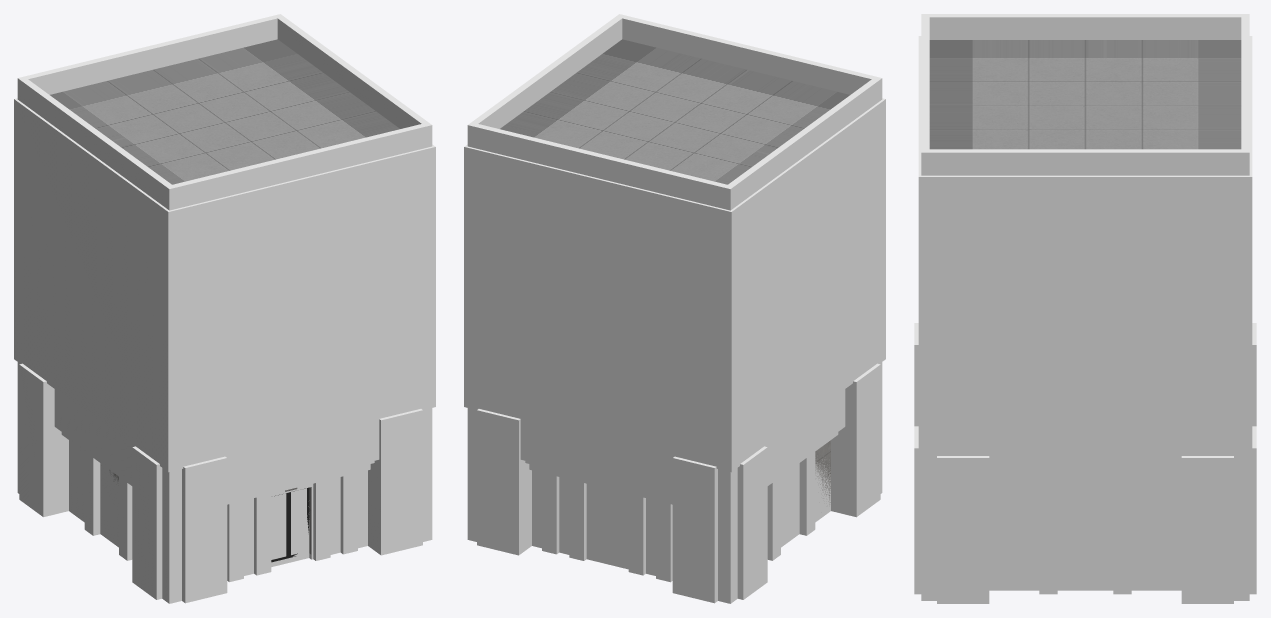
File: objects_un_c03building02.gltf
The picture shows the model from 3 angles, left to right: view 1: azimuth 30°, elevation 25°; view 2: azimuth 150°, elevation 25°; view 3: azimuth 270°, elevation 25°; orthographic projection. The views are drawn at different scales.
Visible parts, largest first — view 1: um_objects_un_c03building02_model_lod0Shape:objects_un_c03bu (×2); view 2: um_objects_un_c03building02_model_lod0Shape:objects_un_c03bu (×3); view 3: um_objects_un_c03building02_model_lod0Shape:objects_un_c03bu (×2).
Part boxes in pixels (bbox=[...]): um_objects_un_c03building02_model_lod0Shape:objects_un_c03bu (×2): bbox=[14, 14, 435, 603]; um_objects_un_c03building02_model_lod0Shape:objects_un_c03bu (×3): bbox=[464, 14, 885, 603]; um_objects_un_c03building02_model_lod0Shape:objects_un_c03bu (×2): bbox=[914, 14, 1256, 603].
Size of what is drawn, in the model's own units: 12.04 by 17.4 by 12.04.
Materials: 7 (6 with a texture image).
